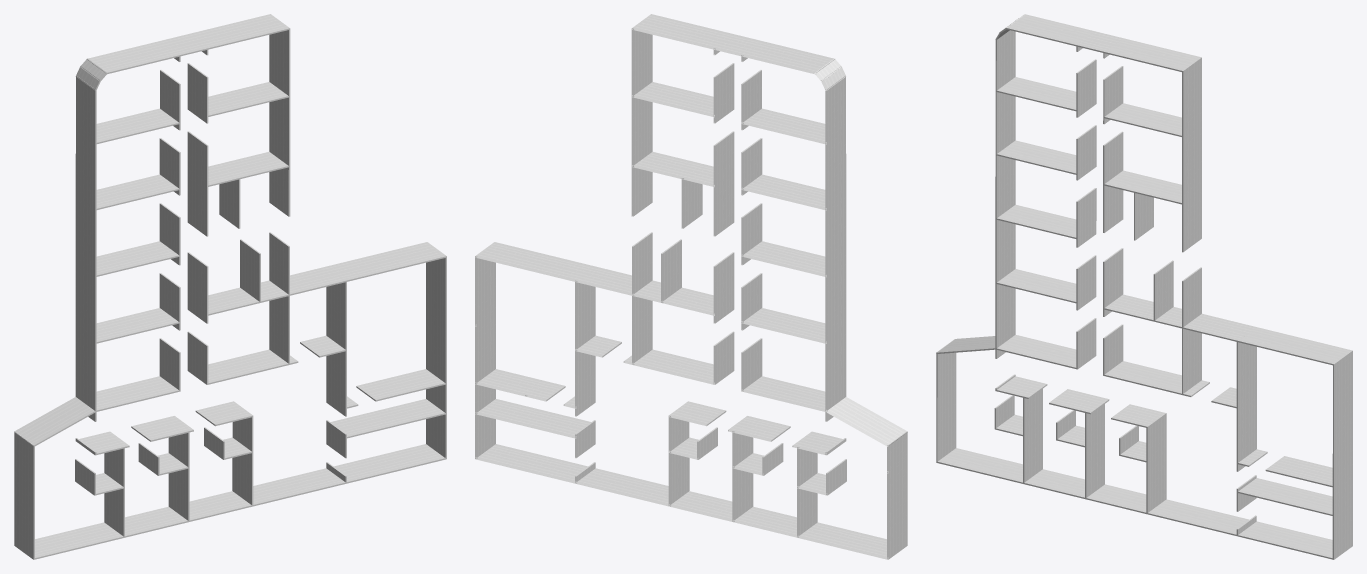
File: wall_1.obj
3 views of the same model, side by side, from view 1: azimuth 30°, elevation 25°; view 2: azimuth 150°, elevation 25°; view 3: azimuth 330°, elevation 25° (orthographic). The views are drawn at different scales.
Visible parts, largest first — view 1: walls; view 2: walls; view 3: walls.
Boxes of the visible parts, x1,y1,x2,y2 form: walls: (14,14,446,559); walls: (475,14,907,559); walls: (936,14,1352,559).
Bounding box in the file's own units: 30.58 × 33.2 × 2.5.
1 material, 1 textured.
